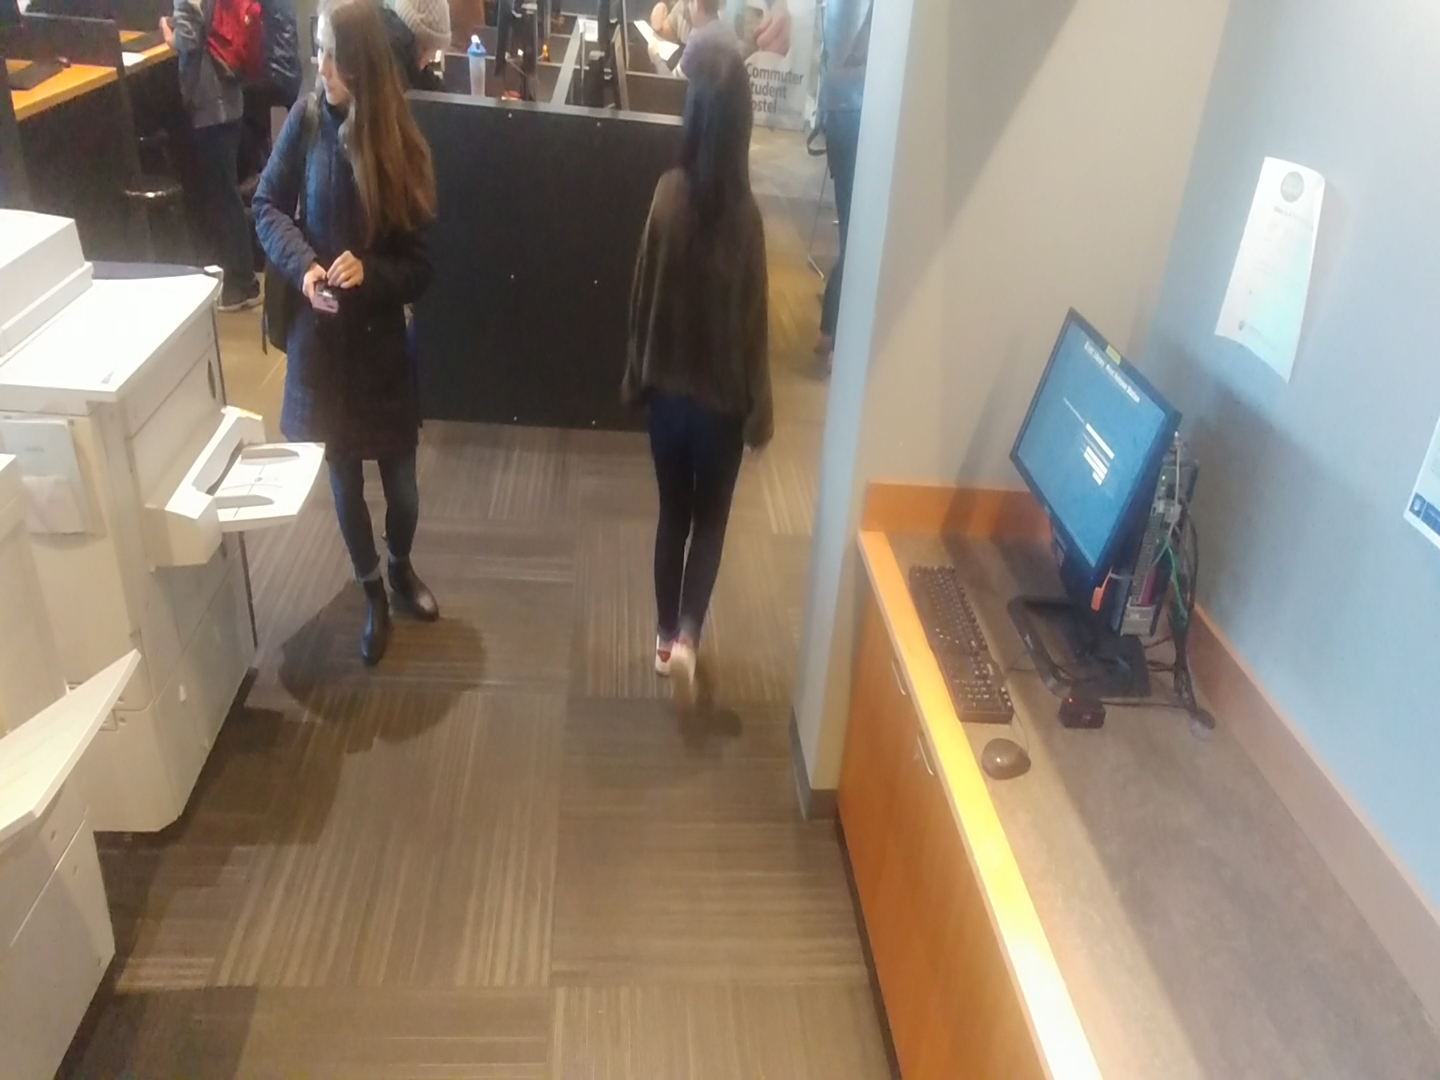face: (290, 0, 407, 137), (669, 34, 771, 179)
human: (239, 0, 460, 676), (595, 27, 798, 723), (156, 0, 274, 325)
